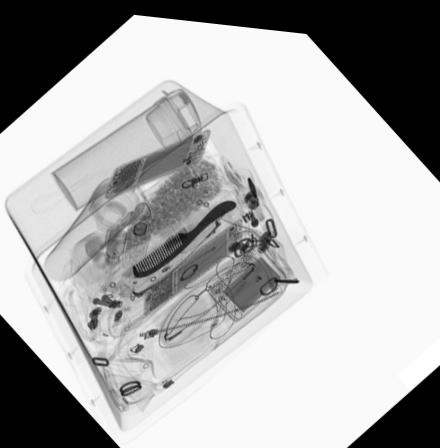Powerbank: (200, 234, 291, 321)
